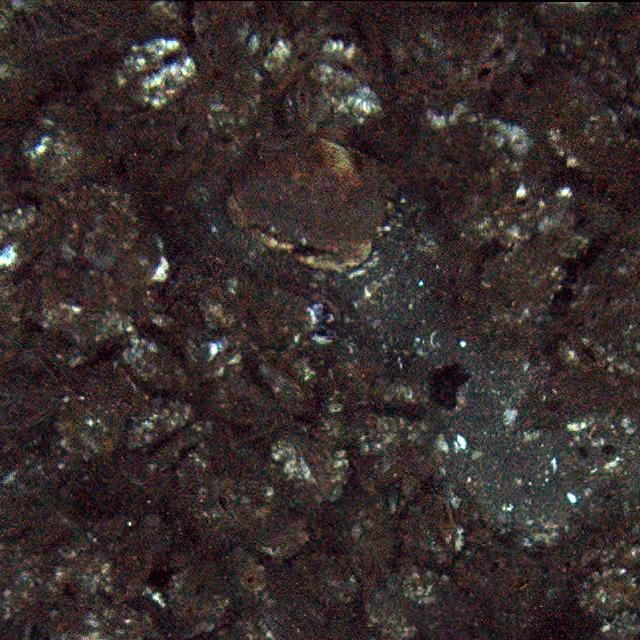crab: (219, 150, 384, 274)
